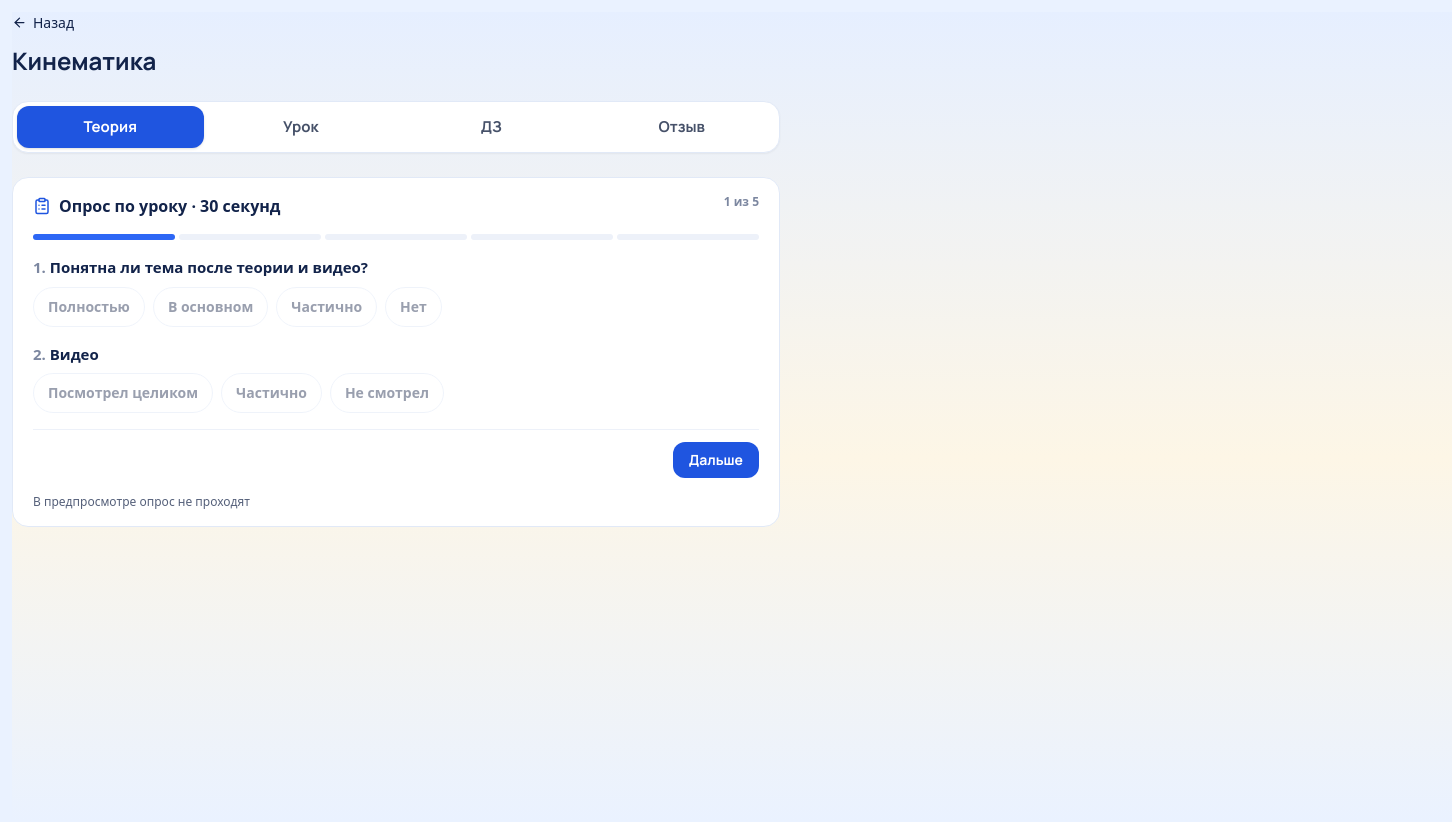
Страница темы в предпросмотре глазами ученика (§178, §179) › ДЗ — блок ученика «не сдано», кнопка сдачи выключена, попытки не читаются
Click the button with test id "topic-seg-homework" at (491,127), box [398,106,584,148]
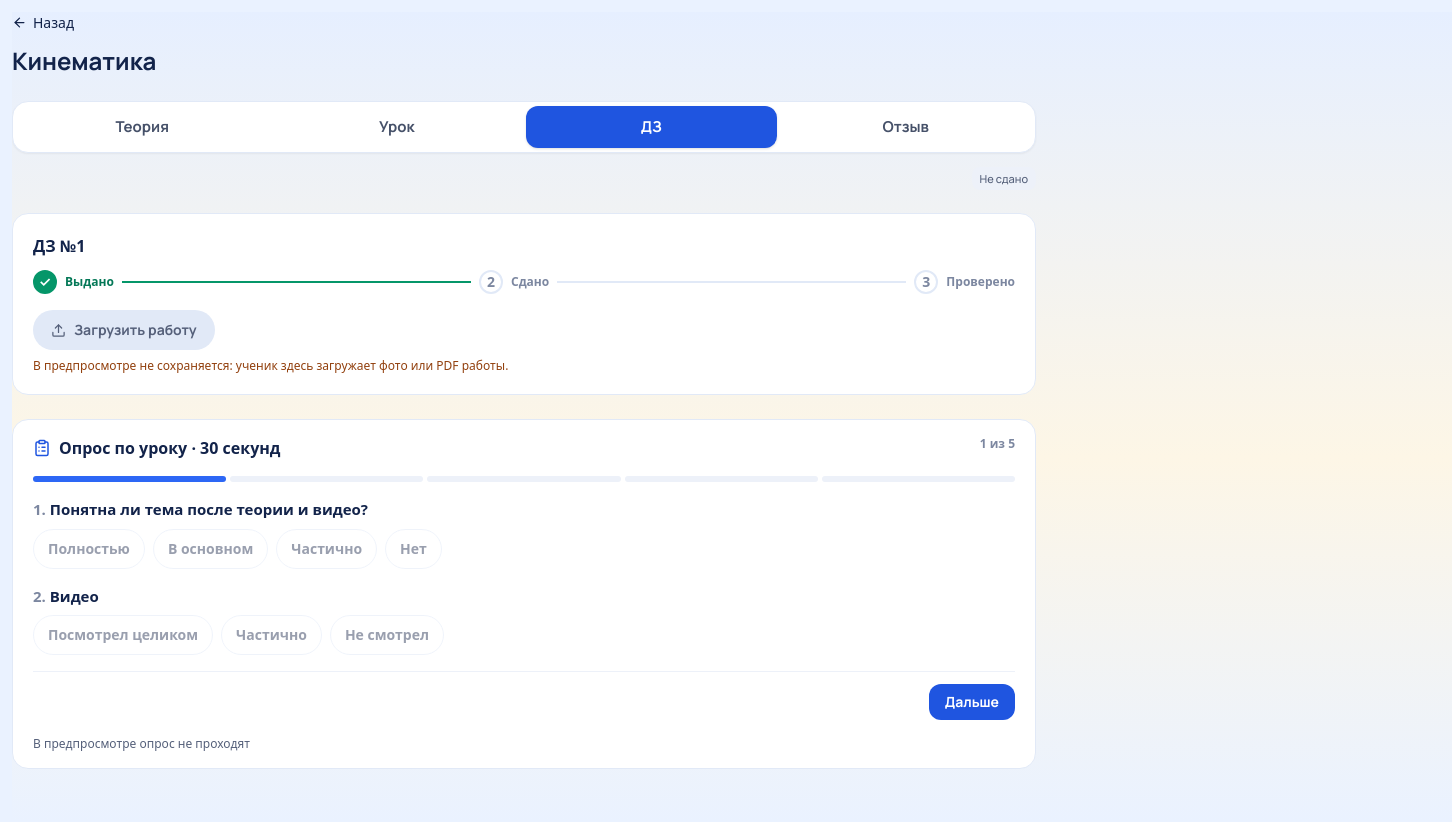
Now the text with test id "topic-group-homework-state" reads "Не сдано", box [980,171,1028,186]
Now the button with test id "hw-start-attempt" is disabled, box [33,310,215,350]
Now the heading "ДЗ №1" is shown, box [33,234,85,258]
